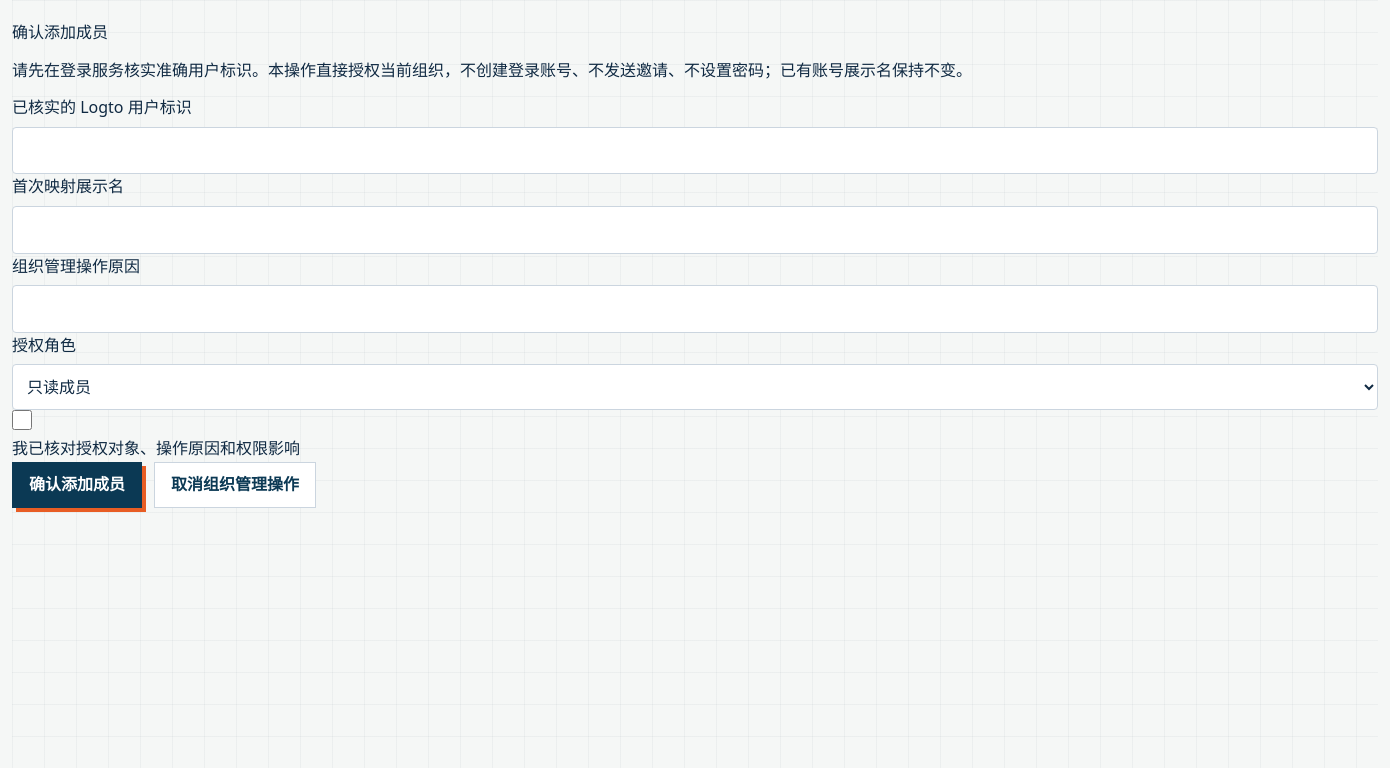
requires verified subject, display name, reason and confirmation before granting access
This screenshot has width=1390, height=768.
Click the button "确认添加成员": (77, 485) [12,462,142,508]
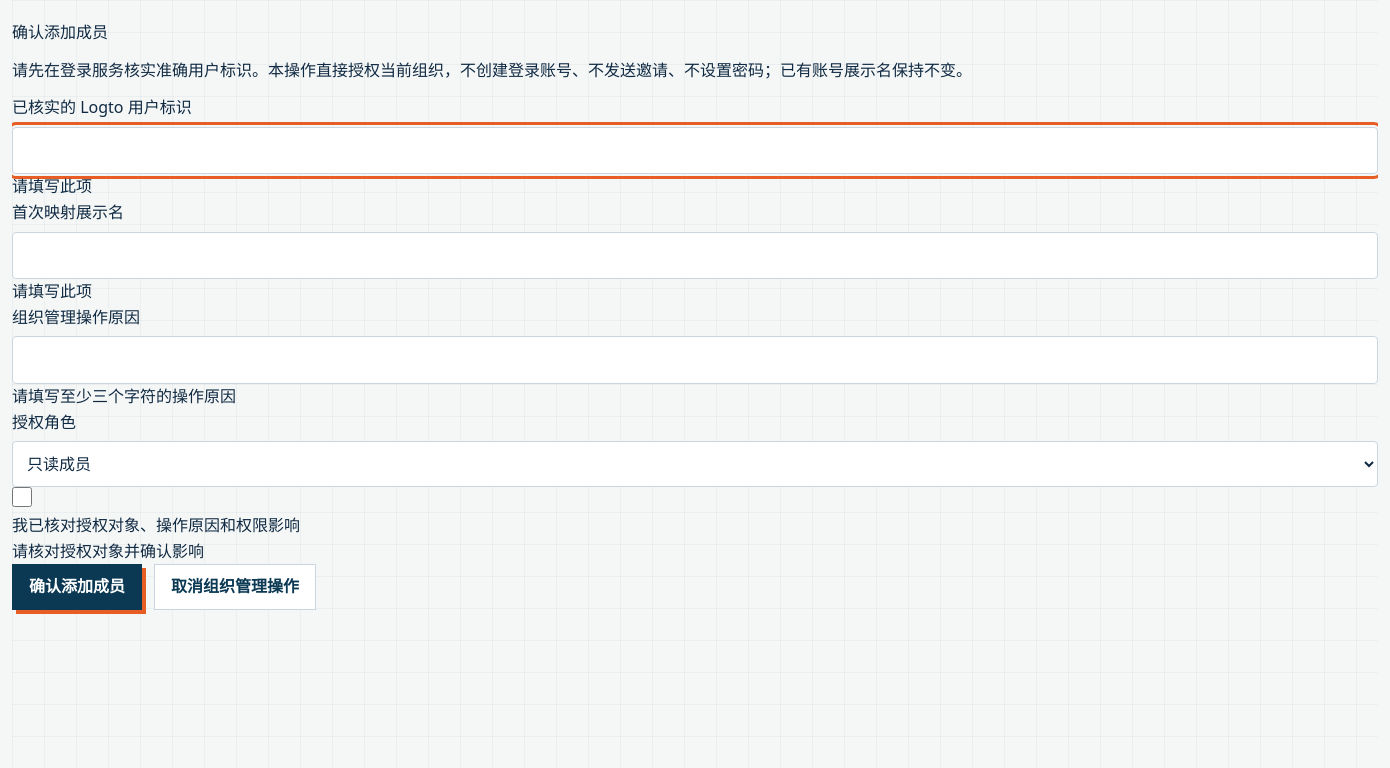
Expected: the text "请核对授权对象并确认影响" is shown, [12,540,204,562]
Expected: the text "请填写此项" is shown 2 times, [12,175,92,197]; [12,280,92,302]
